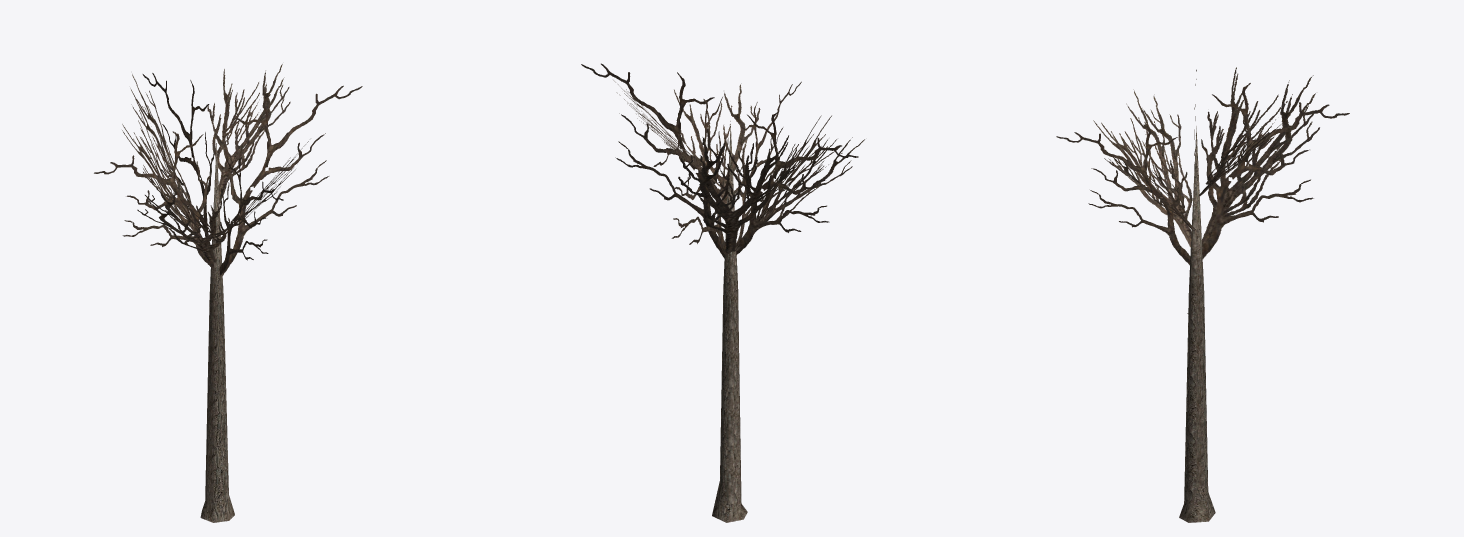
Rendered from tree1c.fbx.
3 views of the same model, side by side, from view 1: azimuth 30°, elevation 25°; view 2: azimuth 150°, elevation 25°; view 3: azimuth 270°, elevation 25° (orthographic). The views are drawn at different scales.
Visible parts, largest first — view 1: mesh_0, mesh_7, mesh_1, mesh_8, mesh_5, mesh_3, mesh_2, mesh_4; view 2: mesh_0, mesh_8, mesh_1, mesh_5, mesh_3, mesh_6, mesh_2, mesh_4, mesh_7; view 3: mesh_0, mesh_8, mesh_5, mesh_2, mesh_4, mesh_7, mesh_6.
Part boxes in pixels (x1,y1,x2,y2): mesh_0: (200,143,234,522); mesh_7: (207,64,290,203); mesh_1: (222,85,362,275); mesh_8: (122,74,202,237); mesh_5: (137,186,236,262); mesh_3: (94,131,213,269); mesh_2: (142,73,214,244); mesh_4: (219,157,283,324); mesh_0: (712,124,747,522); mesh_8: (678,135,795,253); mesh_1: (581,63,724,258); mesh_5: (735,115,864,251); mesh_3: (736,112,858,311); mesh_6: (674,83,760,203); mesh_2: (653,97,728,258); mesh_4: (735,81,801,243); mesh_7: (613,80,723,189); mesh_0: (1179,126,1215,522); mesh_8: (1202,67,1319,250); mesh_5: (1093,89,1192,247); mesh_2: (1201,83,1349,258); mesh_4: (1056,124,1190,313); mesh_7: (1198,123,1282,196); mesh_6: (1104,149,1196,230).
Size of the model in its own units: 729 by 692 by 668.
Materials: 2 (2 with a texture image).
